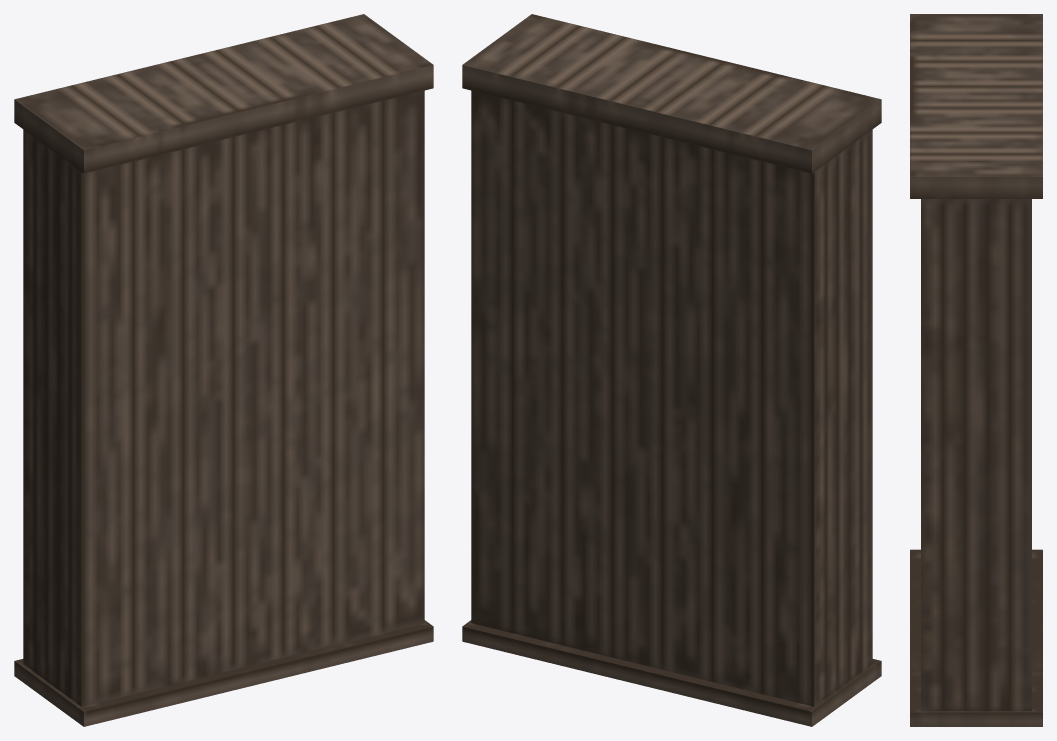
The model's file is wooden_container.fbx.
The picture shows the model from 3 angles, left to right: view 1: azimuth 30°, elevation 25°; view 2: azimuth 150°, elevation 25°; view 3: azimuth 270°, elevation 25°; orthographic projection. The views are drawn at different scales.
Visible parts, largest first — view 1: pCube24; view 2: pCube24; view 3: pCube24.
Boxes of the visible parts, x1,y1,x2,y2 form: pCube24: (14,14,433,726); pCube24: (462,14,881,726); pCube24: (910,14,1042,726).
Size of the model in its own units: 683 by 1076 by 236.
